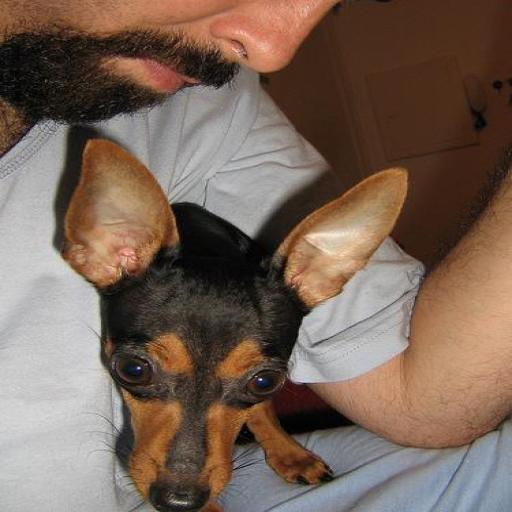dog_face: (71, 143, 397, 512)
